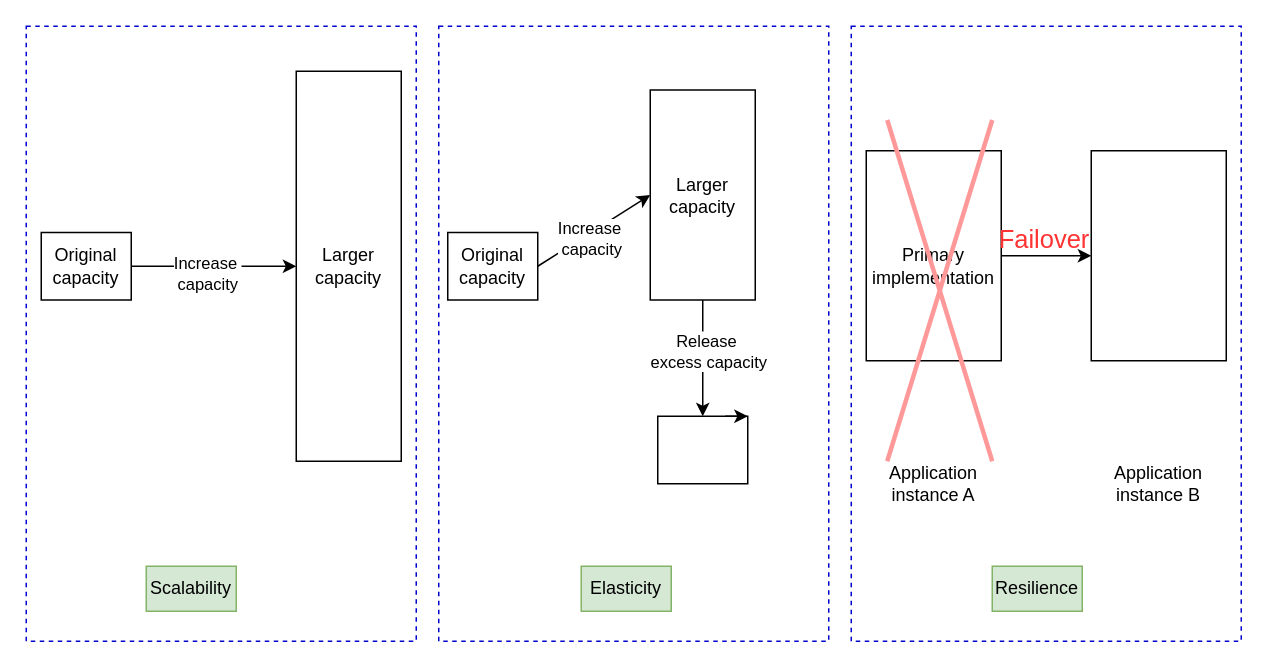
This 1268x668 diagram has some shape labels left out. Here are the shapes that lost their labels. From the top down, the centre of each, then its label:
At (x=1158, y=255): "Redundant implementation".
At (x=702, y=449): "Smaller capacity".
